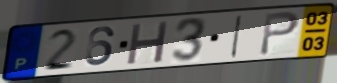2: (39, 28, 81, 73)
3: (169, 16, 208, 65)
6: (84, 26, 117, 68)
H: (125, 19, 172, 67)
I: (228, 13, 245, 60)
P: (257, 9, 302, 57)
